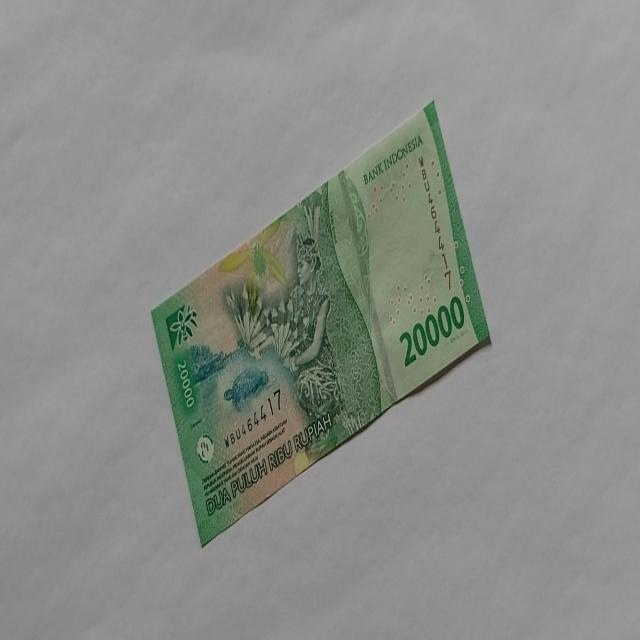dua puluh ribu rupiah: (150, 98, 492, 546), (398, 294, 465, 368)
